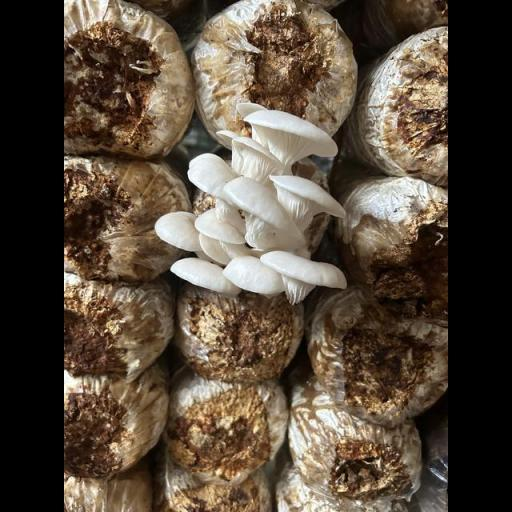White Oyster Mushroom: (139, 92, 369, 314)
